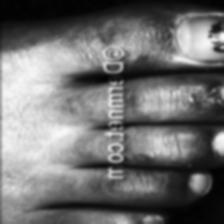Unclassified: (197, 19, 224, 57), (191, 82, 224, 113)
